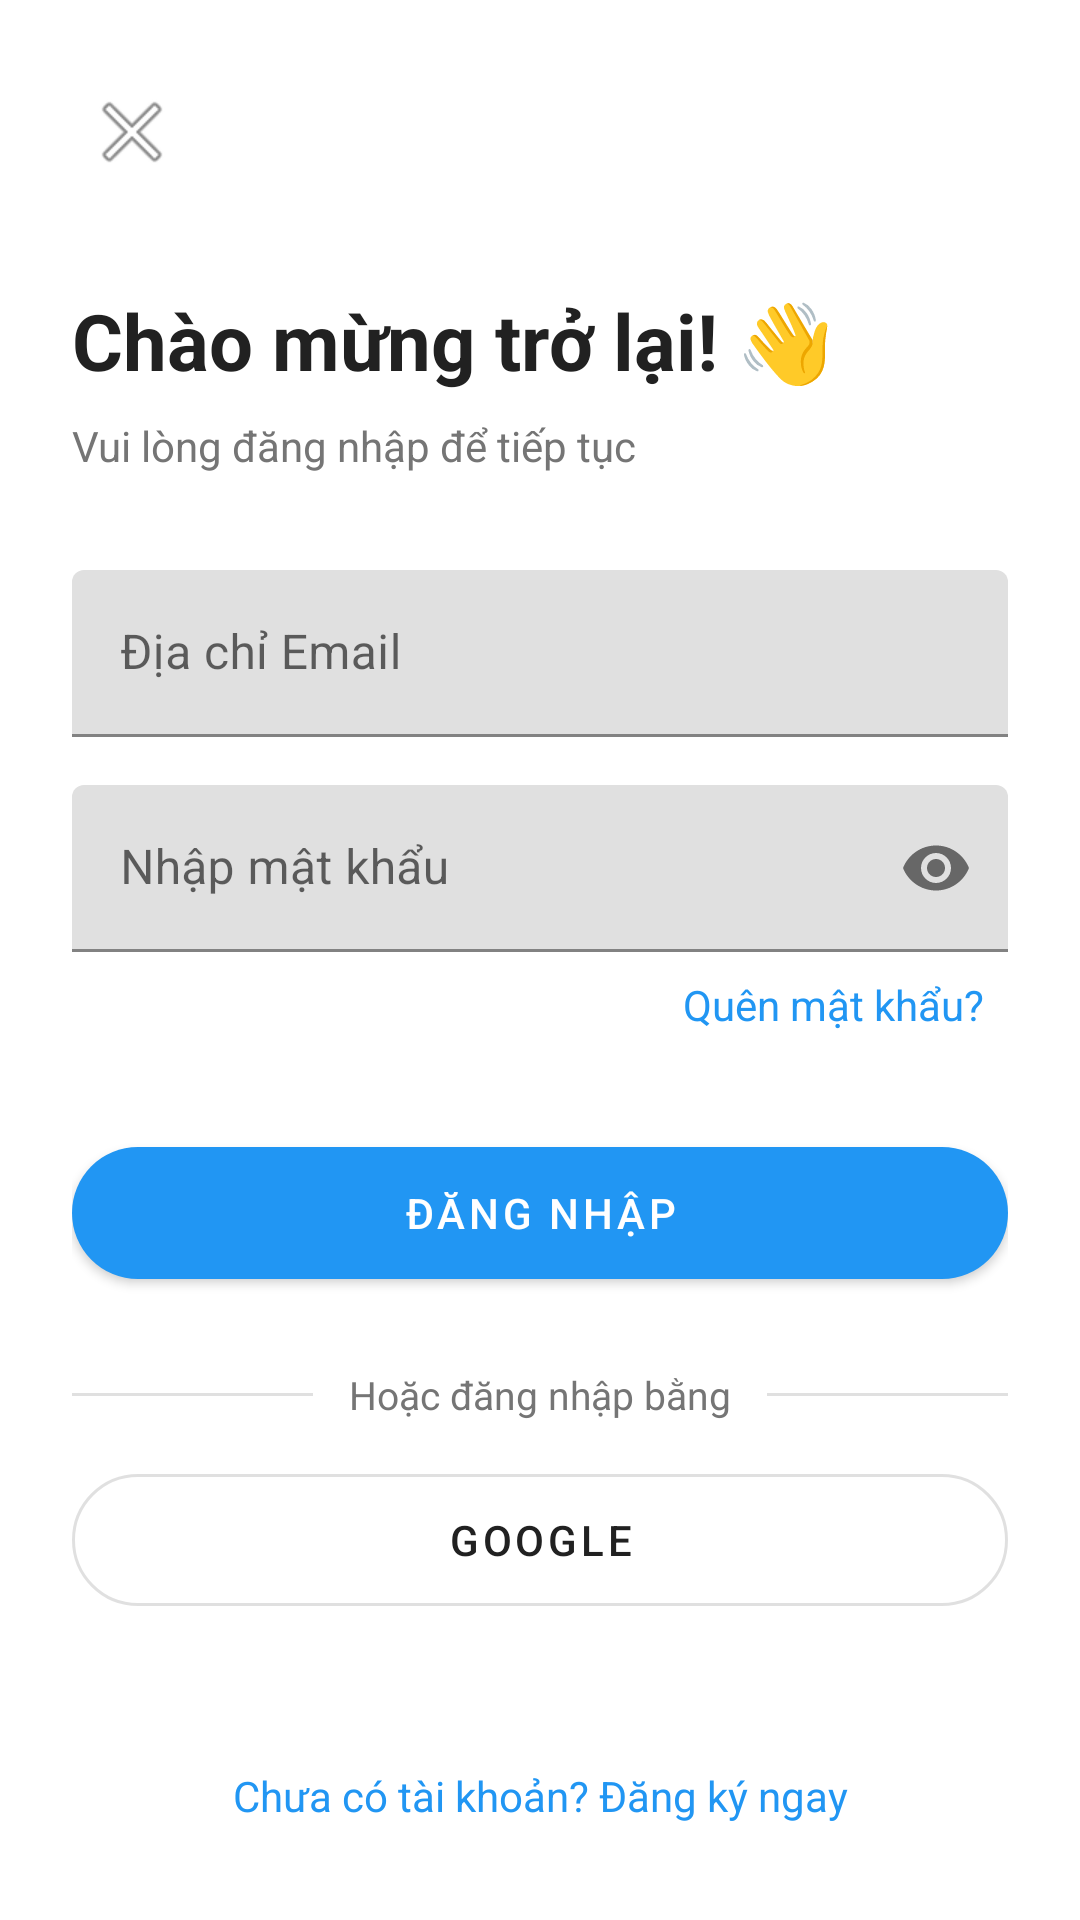

Icon bounding boxes for this 1080 × 1920 phone screenshot, format (x1, y1, x2, y2):
Quay lại: (102, 102, 162, 162)
